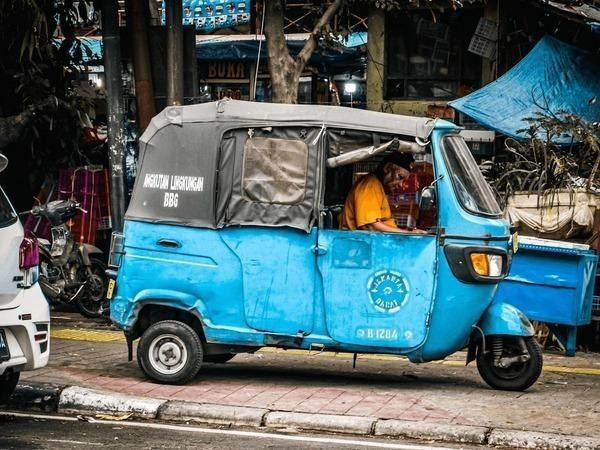keke: (107, 101, 547, 406)
